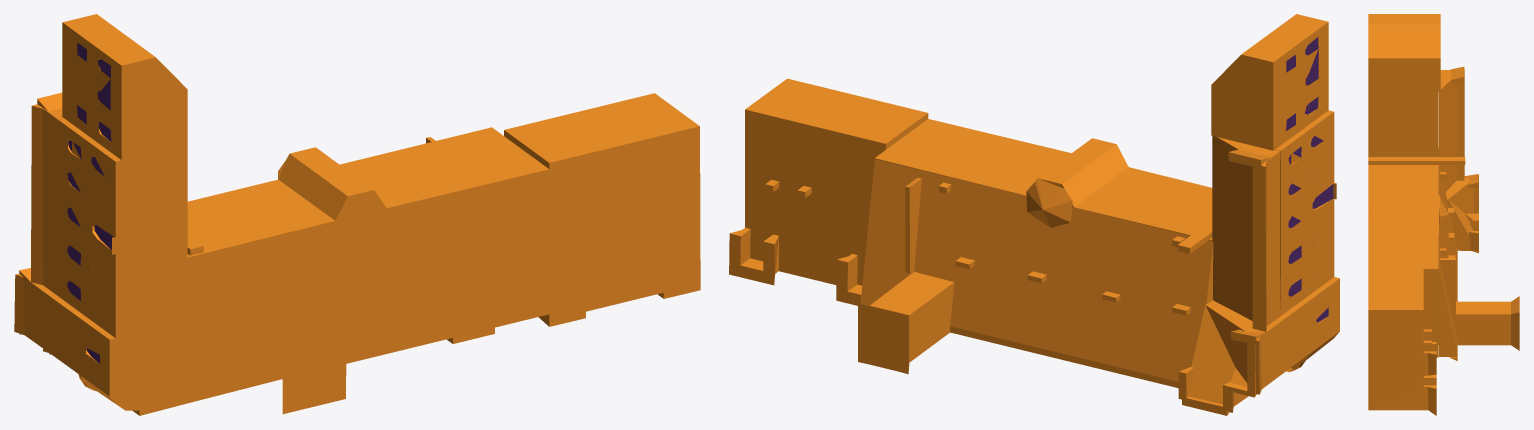
File: RatuszV2.fbx
3 views of the same model, side by side, from view 1: azimuth 30°, elevation 25°; view 2: azimuth 150°, elevation 25°; view 3: azimuth 270°, elevation 25° (orthographic). The views are drawn at different scales.
Visible parts, largest first — view 1: Ratusz_obj_0; view 2: Ratusz_obj_0; view 3: Ratusz_obj_0.
Part boxes in pixels (<box>): Ratusz_obj_0: <box>14,14,700,415</box>; Ratusz_obj_0: <box>729,14,1339,415</box>; Ratusz_obj_0: <box>1368,14,1519,415</box>.
Bounding box in the file's own units: 44.85 × 27.66 × 15.94.
Materials: 1 (1 with a texture image).
